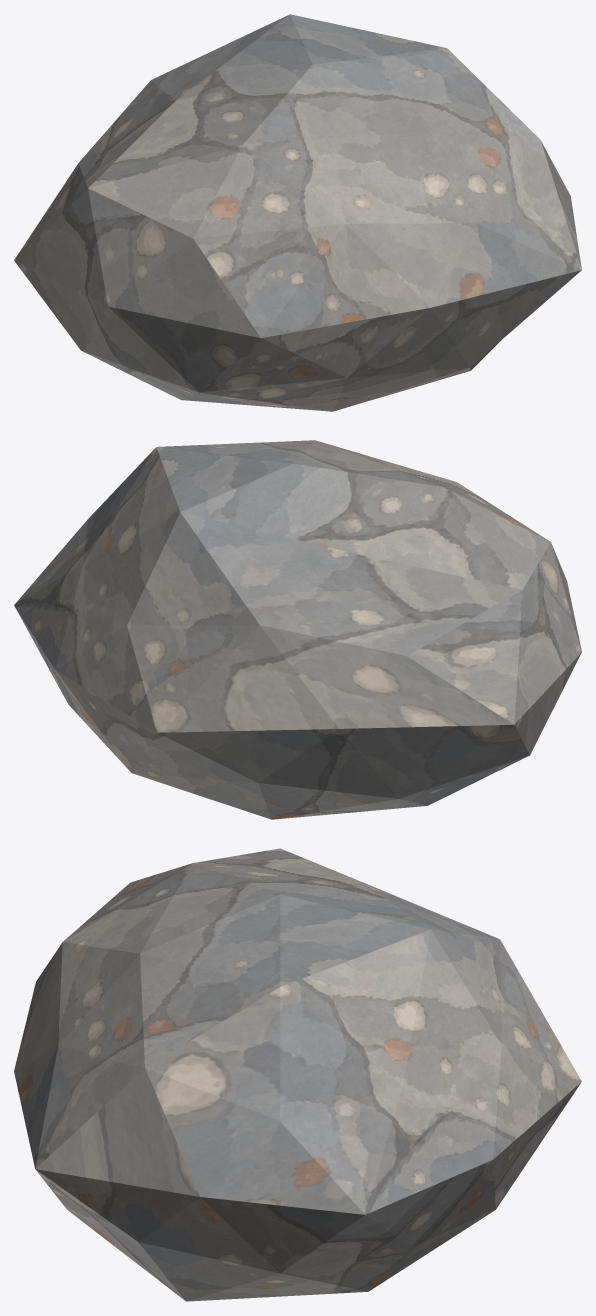
Rendered from rock-WaXDolaw.glb.
The picture shows the model from 3 angles, top to bottom: view 1: azimuth 30°, elevation 25°; view 2: azimuth 150°, elevation 25°; view 3: azimuth 270°, elevation 25°; orthographic projection. The views are drawn at different scales.
Parts seen in each view (by area): view 1: Rock_Stylized; view 2: Rock_Stylized; view 3: Rock_Stylized.
Part boxes in pixels (box(x1,y1,x2,y2)): Rock_Stylized: box(14, 14, 581, 411); Rock_Stylized: box(14, 440, 581, 819); Rock_Stylized: box(14, 848, 581, 1301).
Bounding box in the file's own units: 2.7 × 1.68 × 2.38.
Materials: 1 (1 with a texture image).
